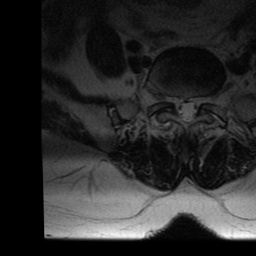CCS_normal: (182, 88, 191, 130)
LFS_stenosis: (199, 83, 208, 112)
LLS_normal: (191, 88, 199, 125)
RFS_stenosis: (165, 82, 174, 111)
RLS_normal: (174, 88, 182, 123)
